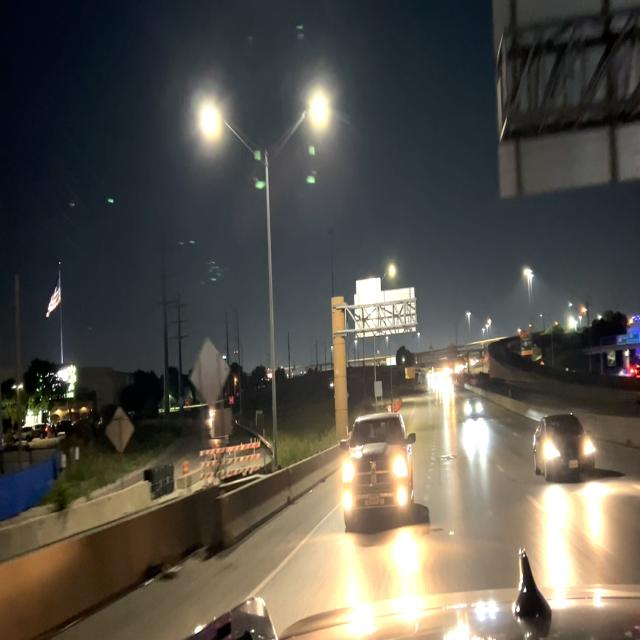back-of-sign: (495, 3, 640, 200), (355, 276, 418, 336), (191, 343, 229, 406), (108, 408, 135, 451)
